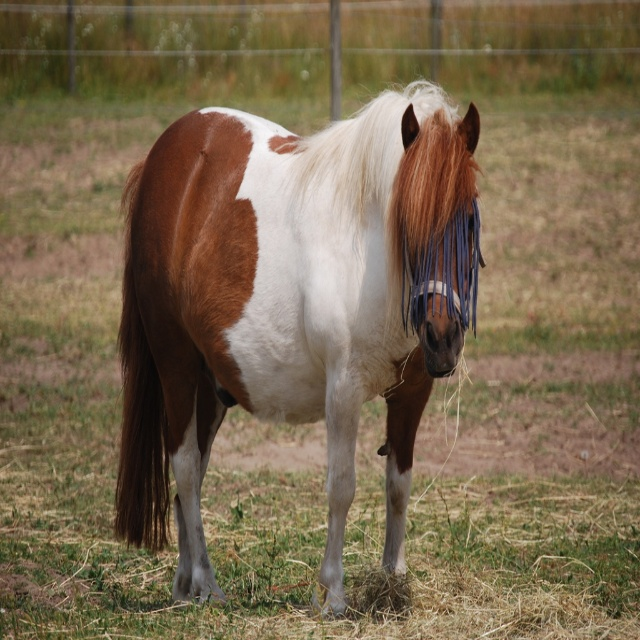Horse: (111, 64, 486, 618)
